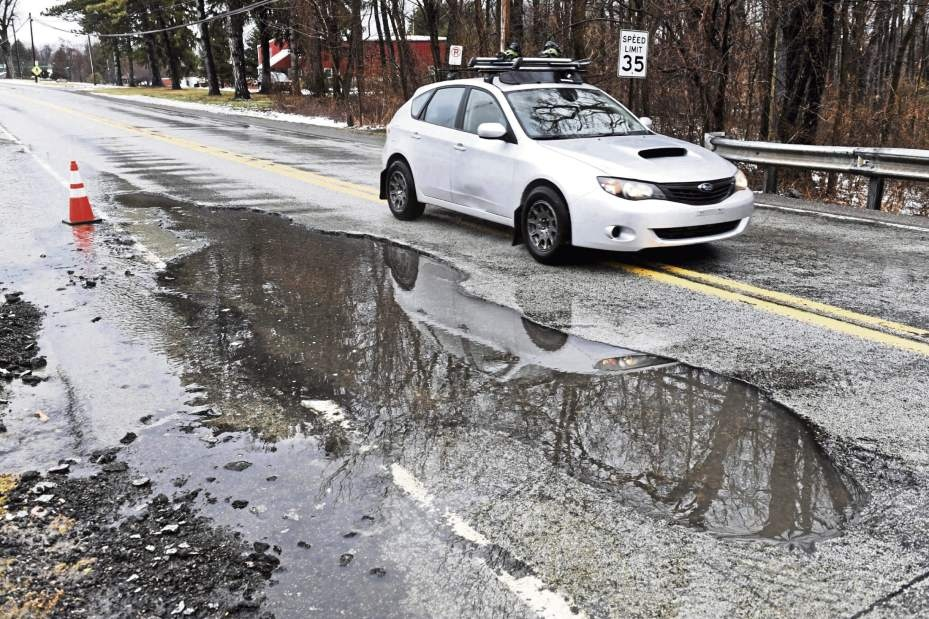pothole: (84, 141, 857, 578)
